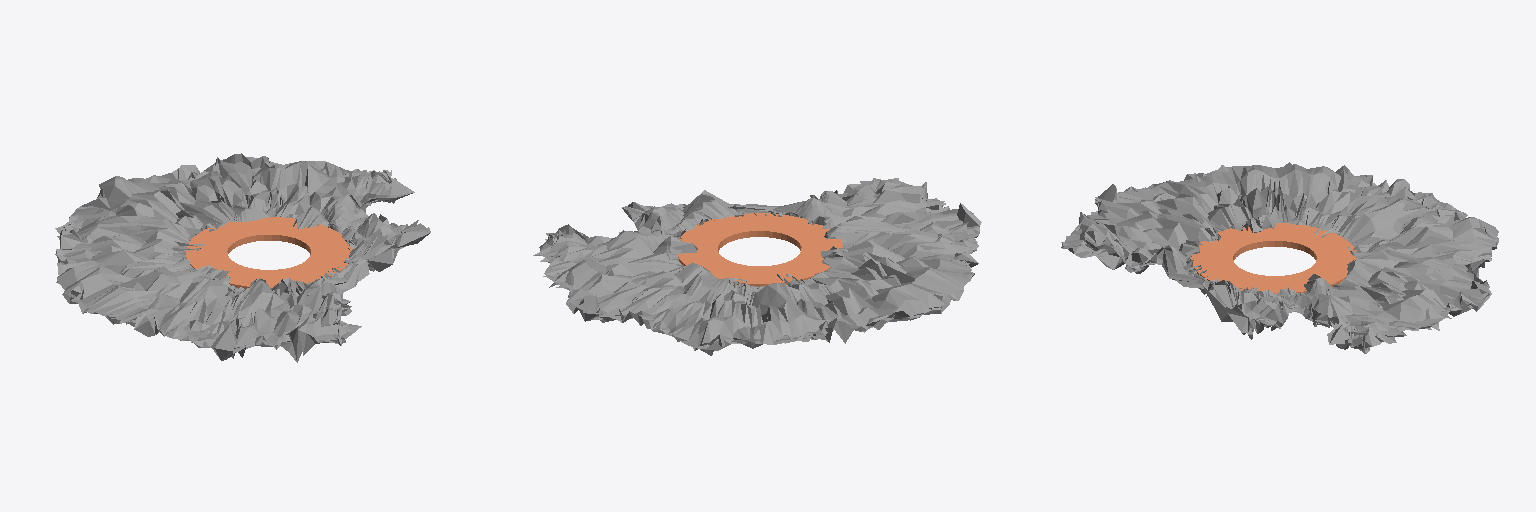
3 views of the same model, side by side, from view 1: azimuth 30°, elevation 25°; view 2: azimuth 150°, elevation 25°; view 3: azimuth 270°, elevation 25° (orthographic).
Visible parts, largest first — view 1: Cylinder.002_Cylinder.002, Cylinder.003_Cylinder.003; view 2: Cylinder.002_Cylinder.002, Cylinder.003_Cylinder.003; view 3: Cylinder.002_Cylinder.002, Cylinder.003_Cylinder.003.
Boxes of the visible parts, x1,y1,x2,y2 form: Cylinder.002_Cylinder.002: [55, 153, 430, 362]; Cylinder.003_Cylinder.003: [186, 217, 352, 288]; Cylinder.002_Cylinder.002: [533, 178, 981, 355]; Cylinder.003_Cylinder.003: [677, 213, 842, 286]; Cylinder.002_Cylinder.002: [1061, 162, 1498, 353]; Cylinder.003_Cylinder.003: [1191, 223, 1356, 293].
Bounding box in the file's own units: 2.02 × 0.209 × 2.09.
Materials: 2 (1 with a texture image).